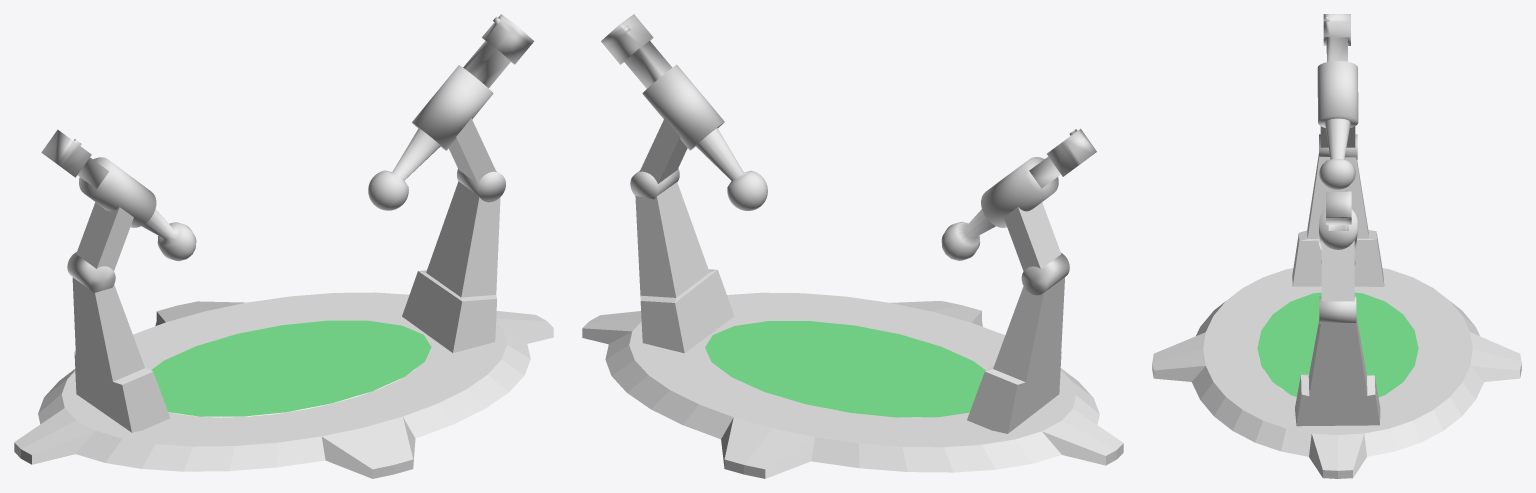
The model's file is ColorSwapRework.fbx.
3 views of the same model, side by side, from view 1: azimuth 30°, elevation 25°; view 2: azimuth 150°, elevation 25°; view 3: azimuth 270°, elevation 25° (orthographic). The views are drawn at different scales.
Visible parts, largest first — view 1: Plaque, Bras 2, Bras 1; view 2: Plaque, Bras 2, Bras 1; view 3: Plaque, Bras 2, Bras 1.
Part boxes in pixels (x1,y1,x2,y2): Plaque: (14,292,553,478); Bras 2: (368,14,534,352); Bras 1: (41,129,196,432); Plaque: (582,292,1123,478); Bras 2: (601,14,767,353); Bras 1: (941,128,1096,433); Plaque: (1152,268,1521,478); Bras 2: (1295,191,1380,426); Bras 1: (1292,14,1384,286).
Size of the model in its own units: 844 by 491 by 605.
